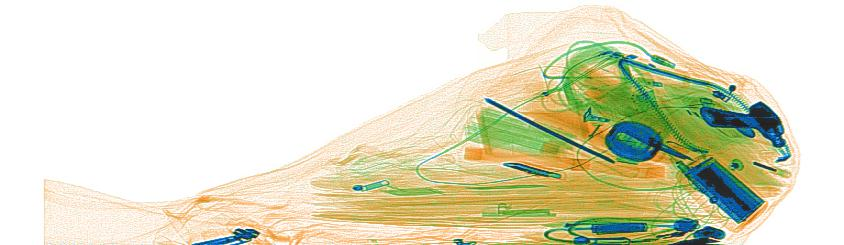battery: (676, 153, 769, 233), (588, 221, 648, 235)
